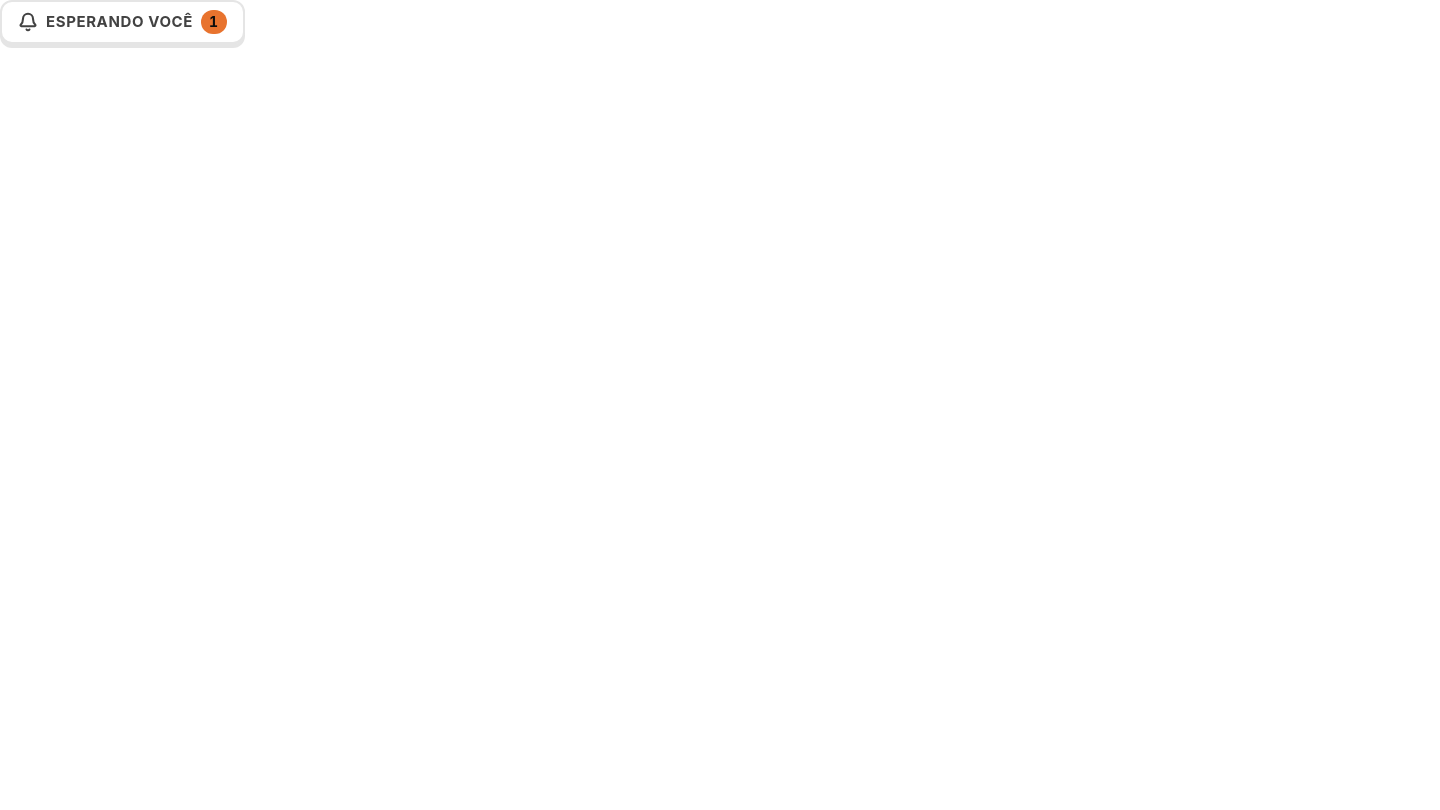
Test: o botão do sino › abrir a lista não pede nada: nenhum "Tentar de novo" nem "Atualizar" é chamado
Click the button with aria-label "Esperando você, 1".
click(122, 22)  # box [0,0,245,44]
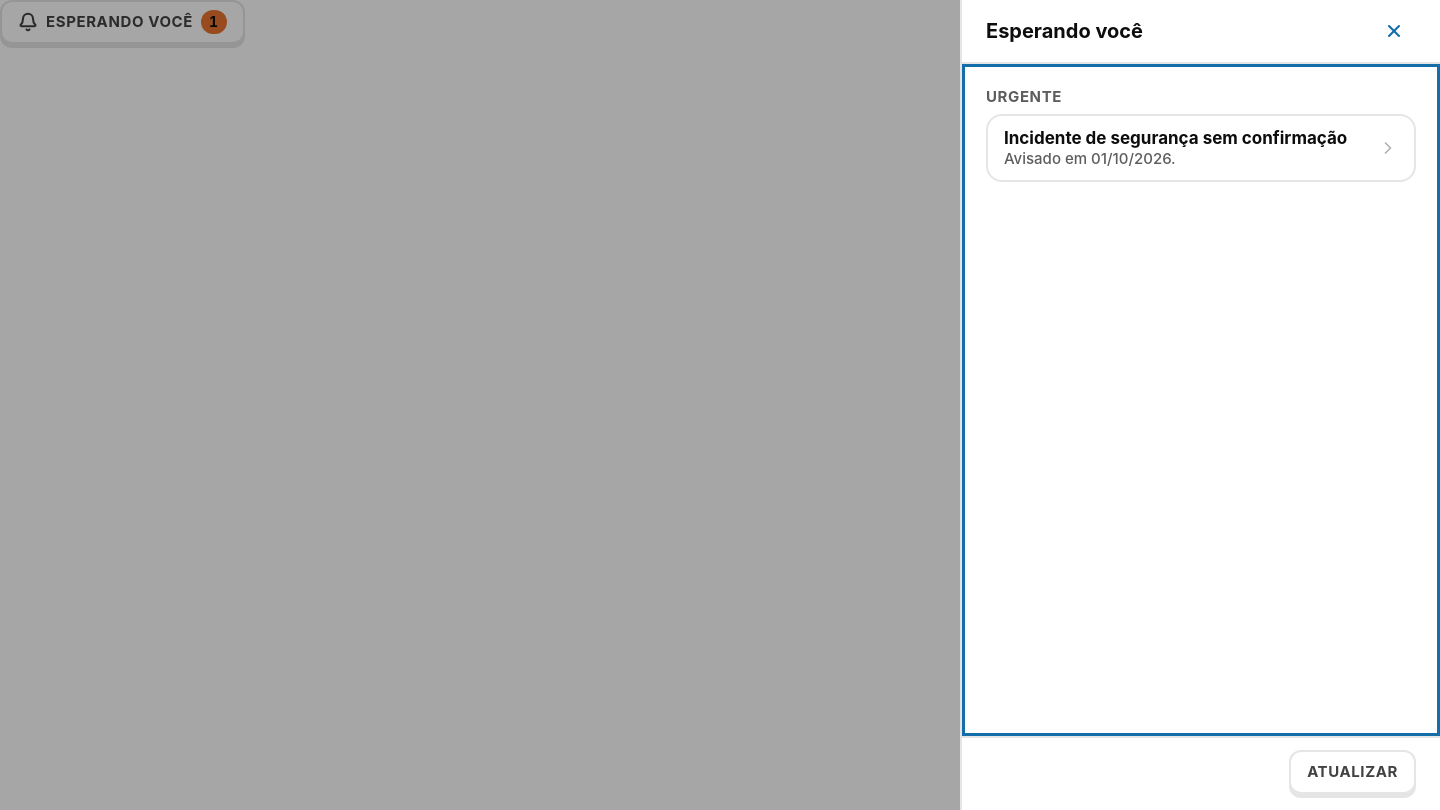
Expected: the dialog "Esperando você" is shown, [960,0,1439,809]
